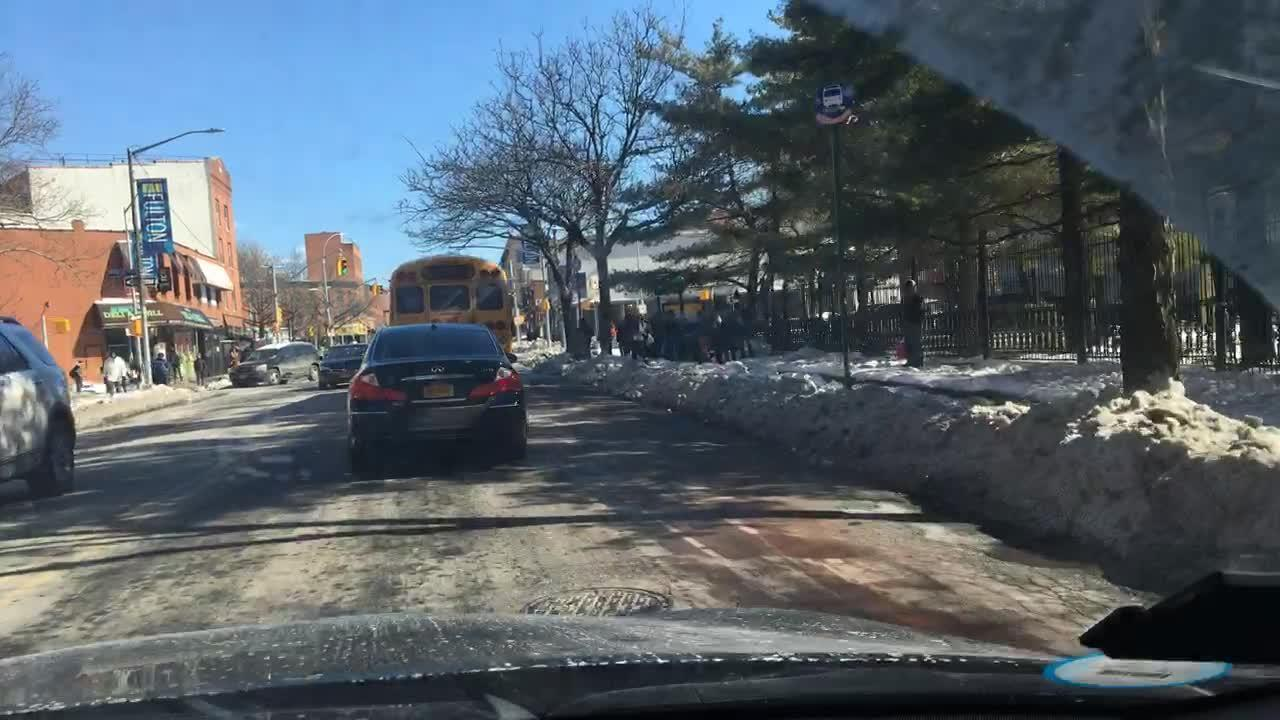Infiniti: (424, 360, 449, 379)
